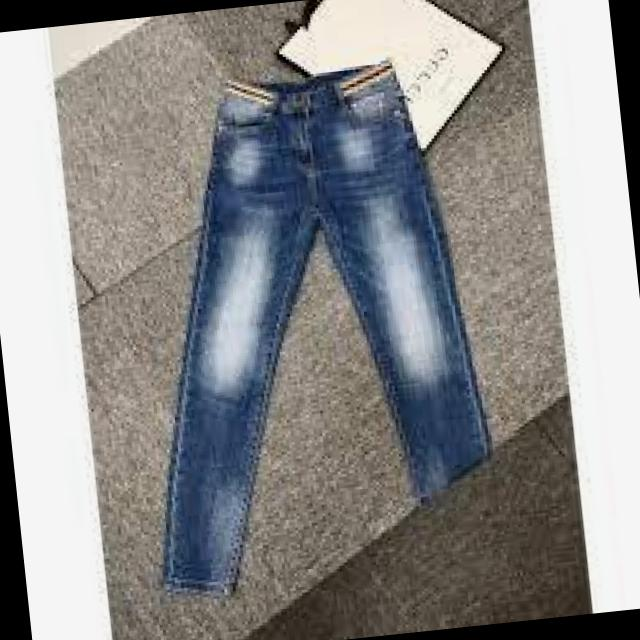pants: (115, 61, 492, 590)
